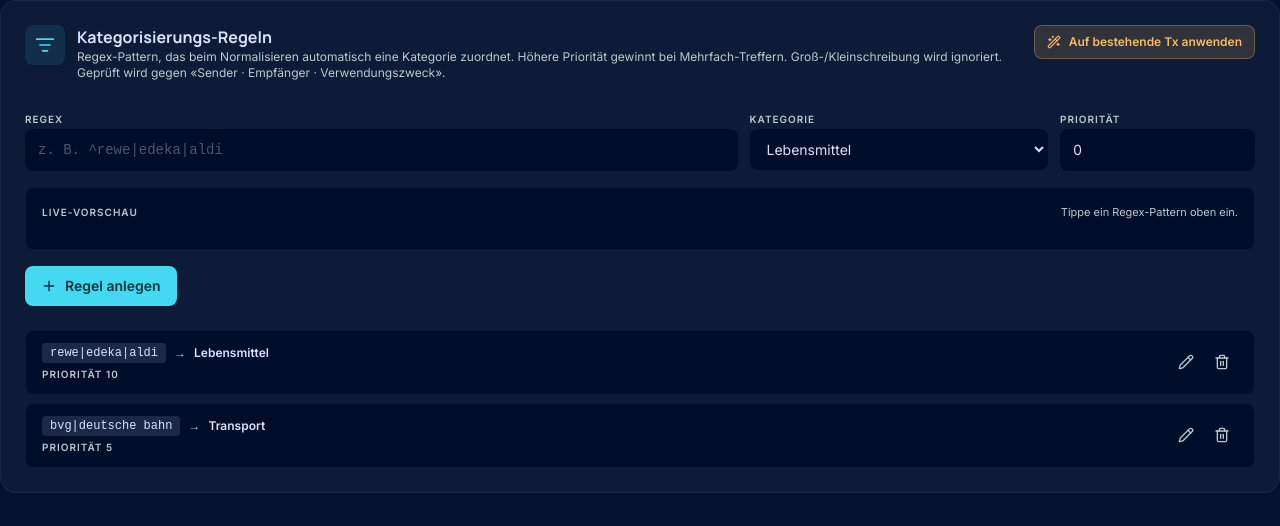
Test case: RulesSection › shows the (insgesamt N) hint when total exceeds sample size
In the field labelled "Regex": point(381, 150) [25, 129, 738, 171], type "rewe"
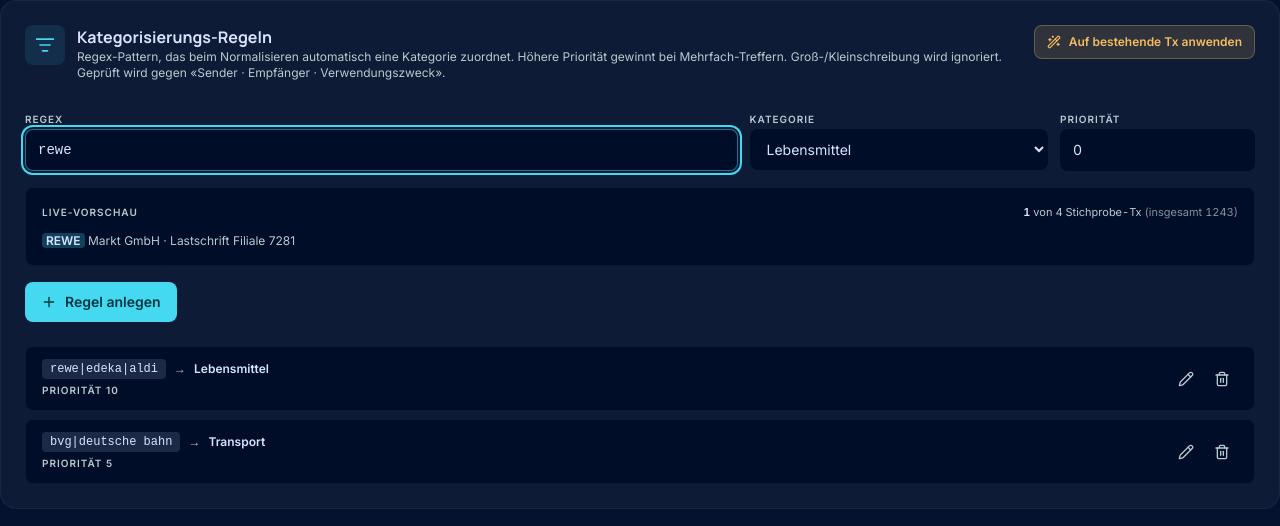
Result: the element named "Live-Vorschau-Hits" reads "1 von 4 Stichprobe-Tx (insgesamt 1243)" at [1023, 204, 1238, 220]
